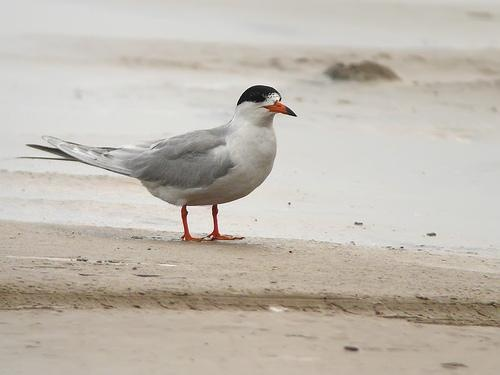bird: (19, 82, 300, 245)
